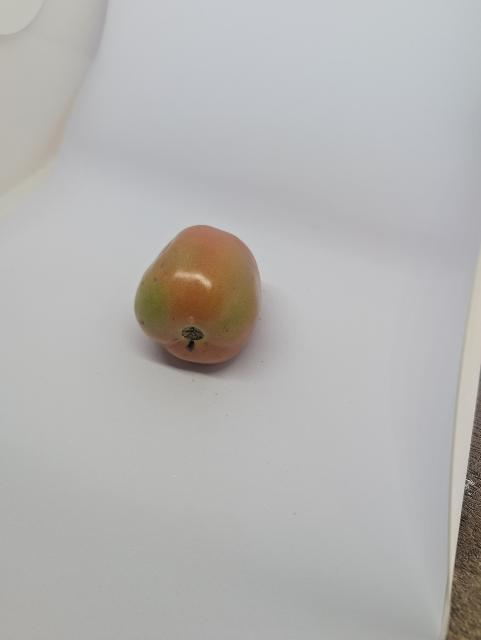turning: (124, 221, 282, 387)
